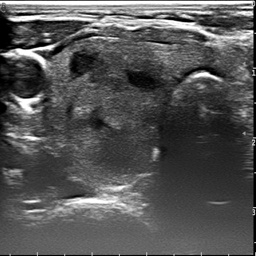mass: (51, 40, 166, 180)
